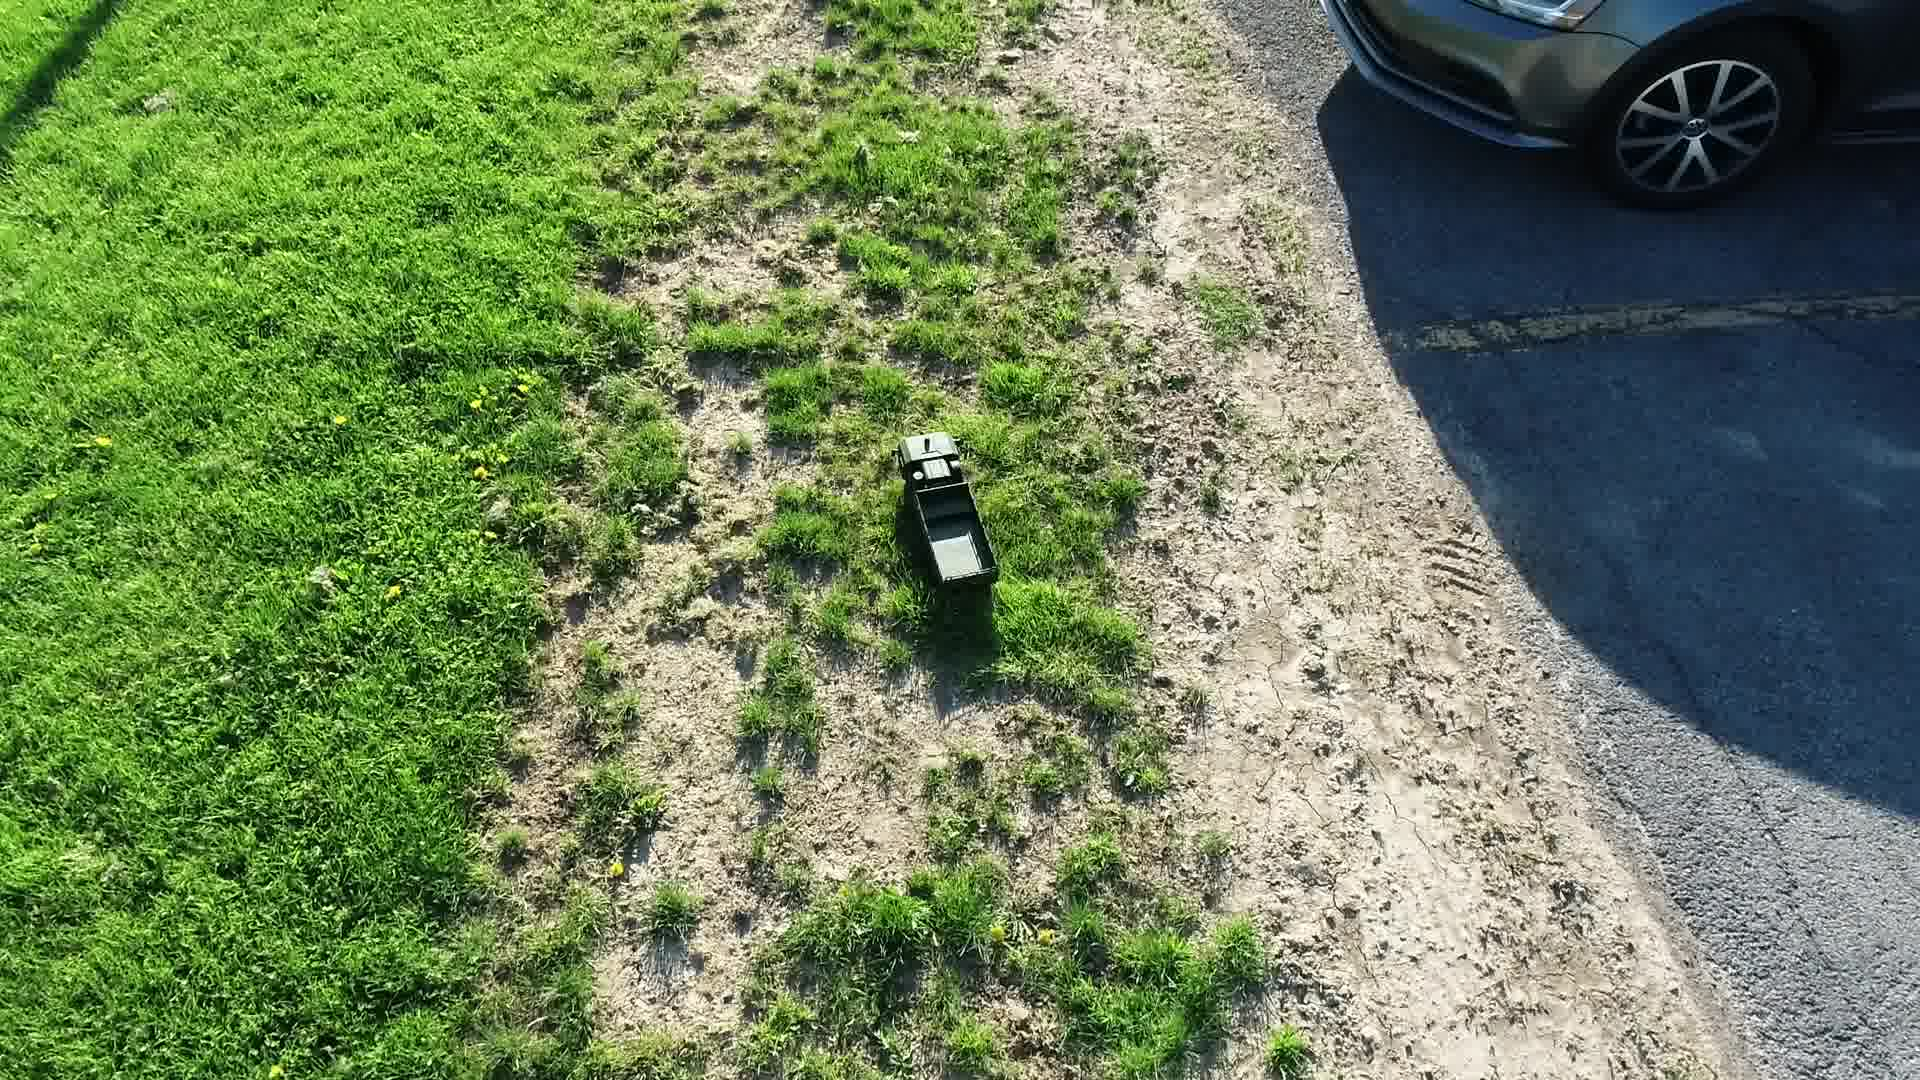transporter9: (890, 426, 1009, 624)
